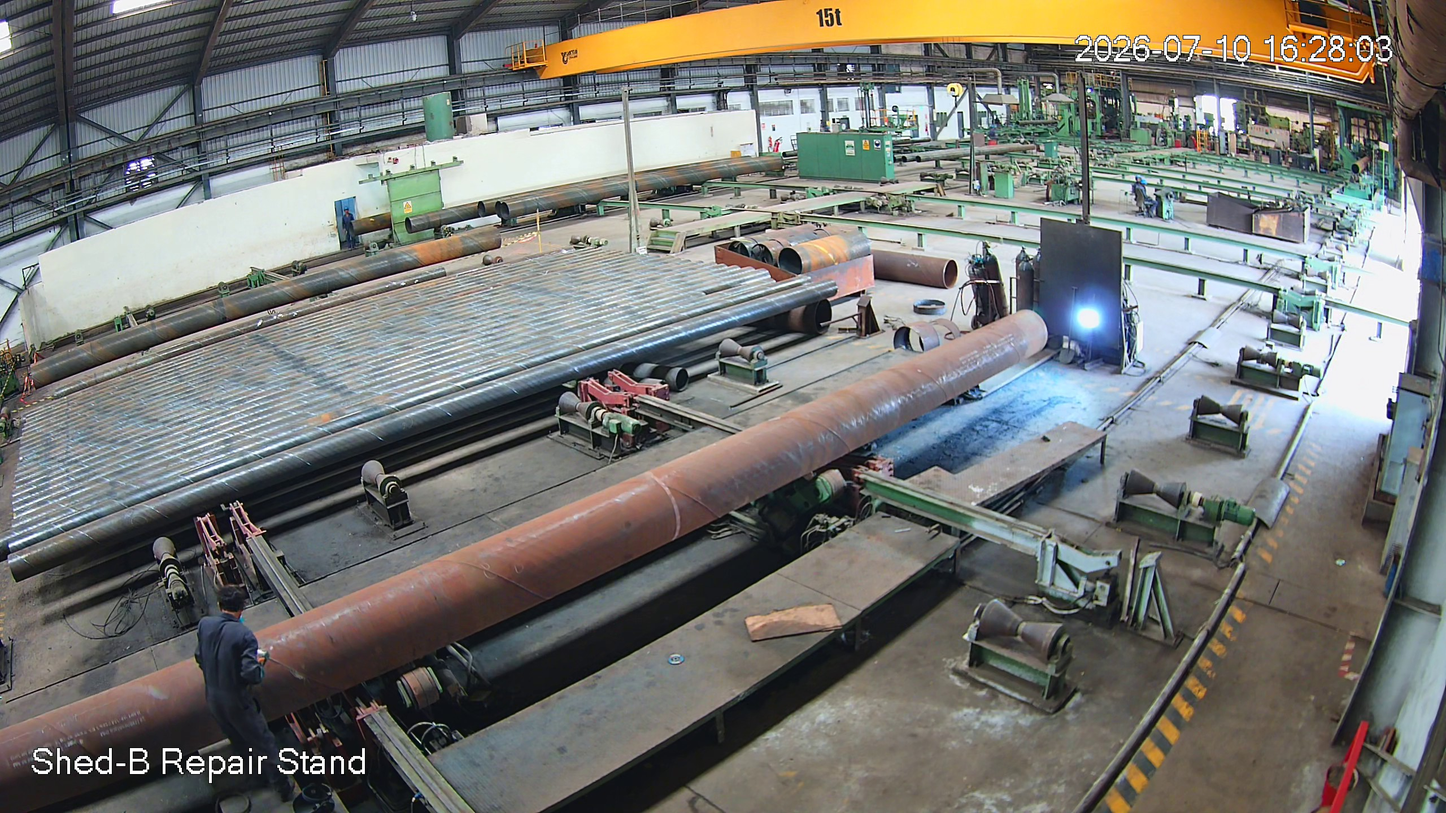Person: (198, 590, 301, 801)
